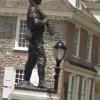Statue: (14, 3, 57, 90)
